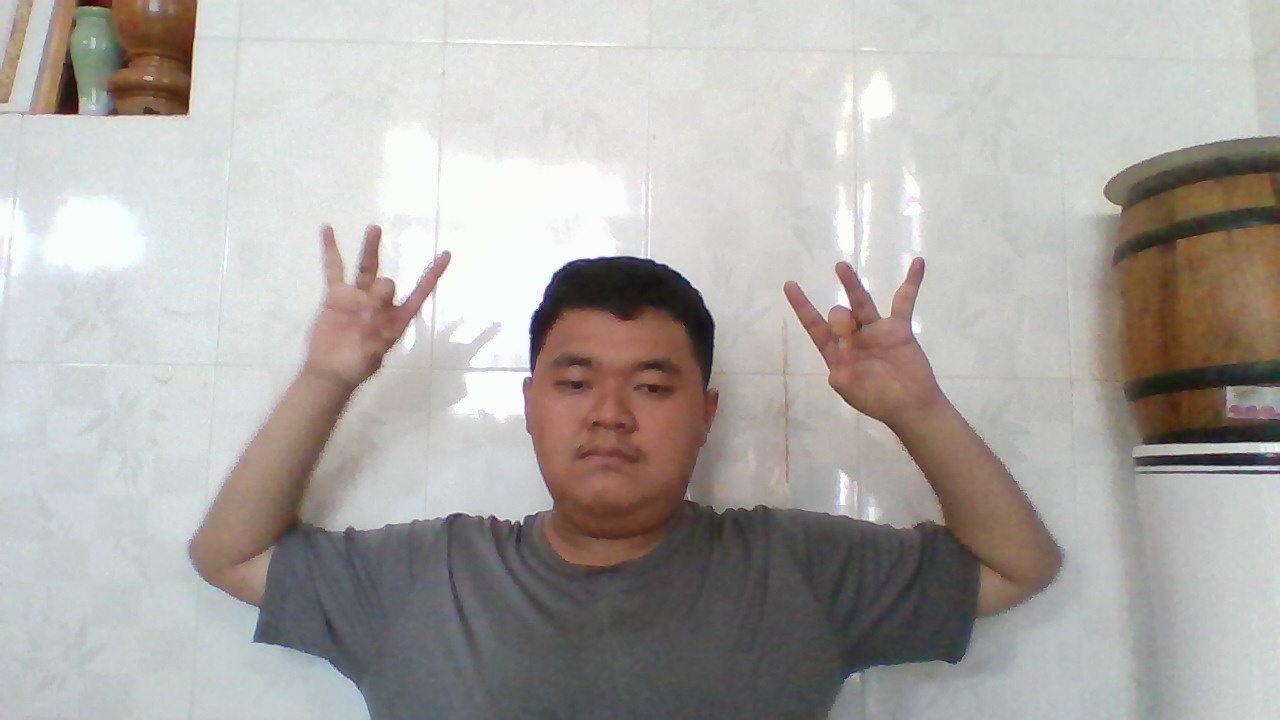H: (772, 248, 933, 427), (306, 212, 461, 394)
